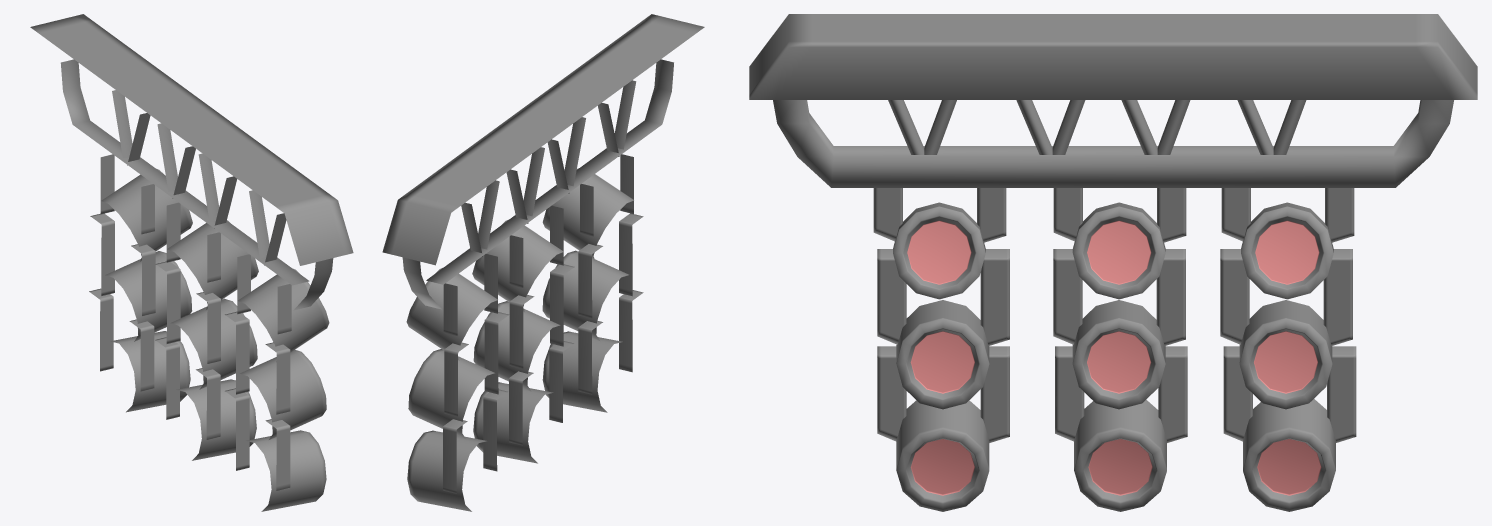
Rendered from OOB_Lights_00.gltf.
3 renders of one model, left to right at view 1: azimuth 30°, elevation 25°; view 2: azimuth 150°, elevation 25°; view 3: azimuth 270°, elevation 25°, orthographic. The views are drawn at different scales.
Parts seen in each view (by area): view 1: OOB_Lights_00; view 2: OOB_Lights_00; view 3: OOB_Lights_00.
Part boxes in pixels (x1,y1,x2,y2): OOB_Lights_00: [30, 14, 353, 511]; OOB_Lights_00: [382, 14, 704, 511]; OOB_Lights_00: [749, 14, 1477, 511].
Bounding box in the file's own units: 2.92 × 10.38 × 15.34.
